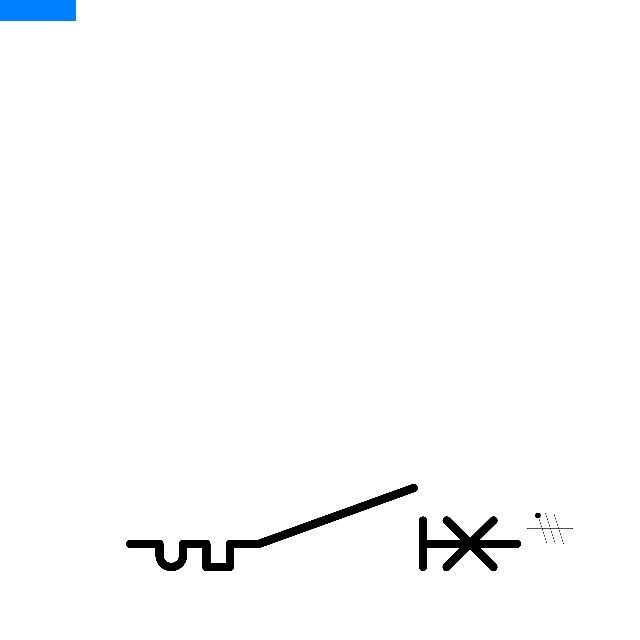interruptor_termomagnetico: (120, 478, 527, 577)
